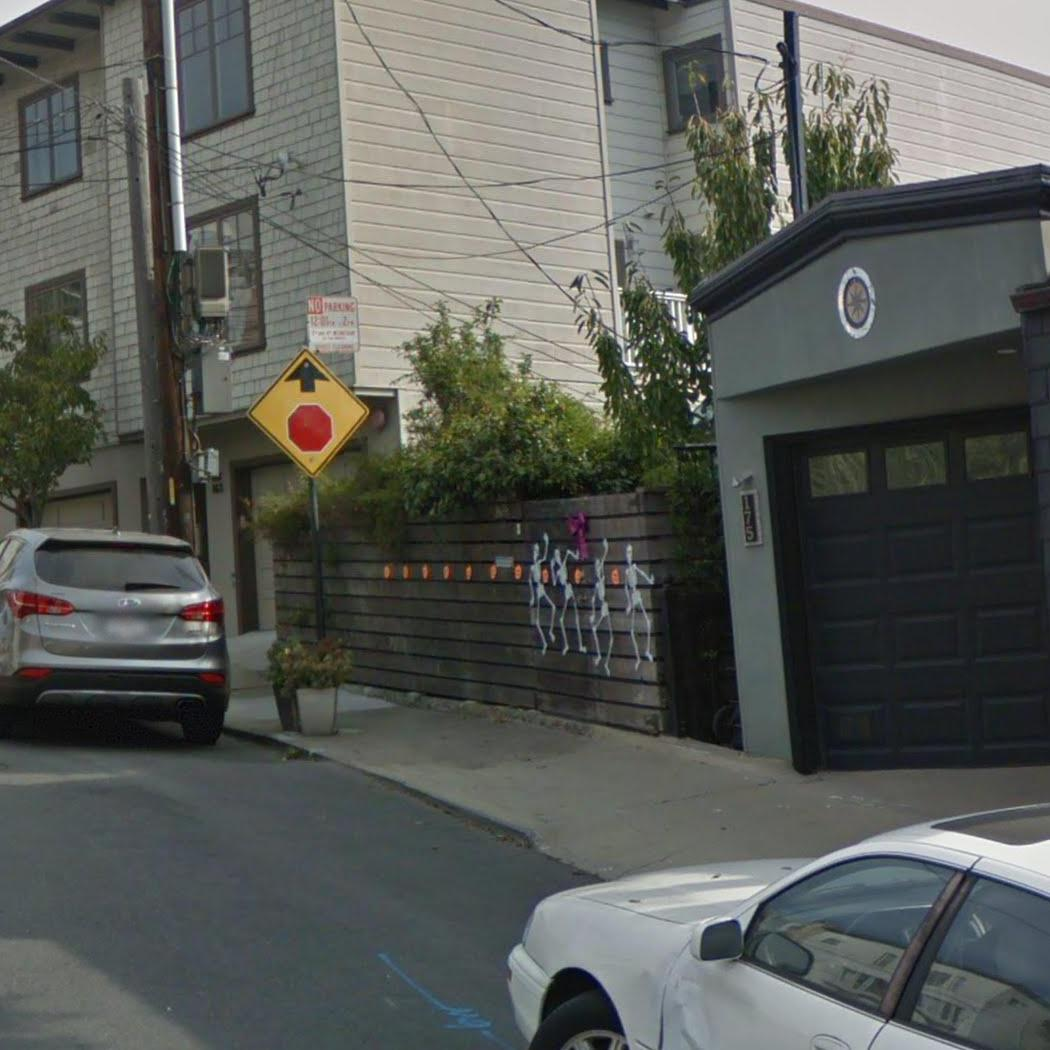No Parking: (305, 291, 362, 358)
